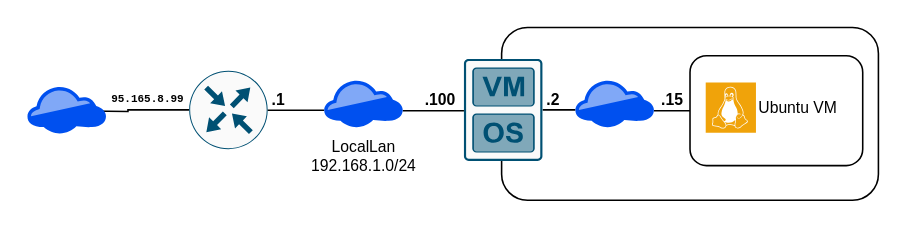
Some shapes in this 906 by 228 pixel diagram are drawn without their labels. The box of each missing label's shape, as (x1, y1, x2, y2) in pixels:
Internet: (26, 85, 106, 133)
VboxLan 10.0.2.0/24: (574, 78, 654, 127)
